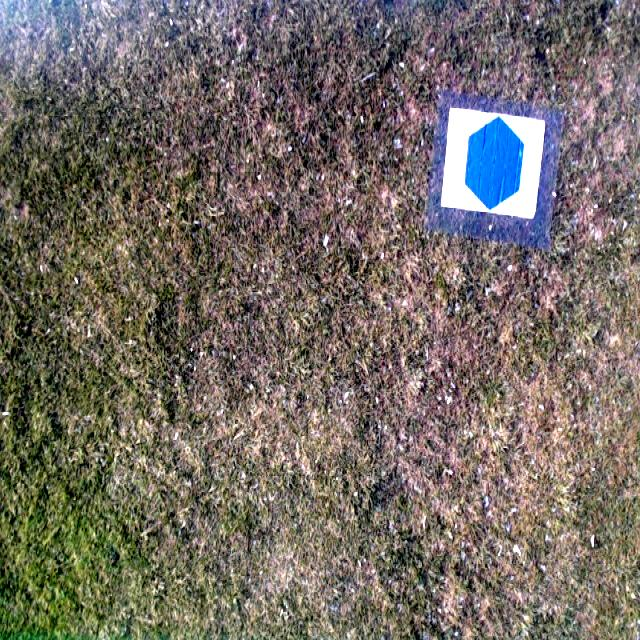blue_hexagon: (464, 114, 523, 210)
